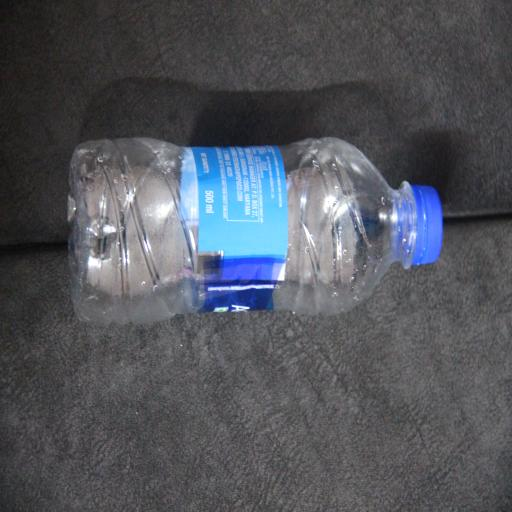Aquafina: (92, 104, 212, 512)
